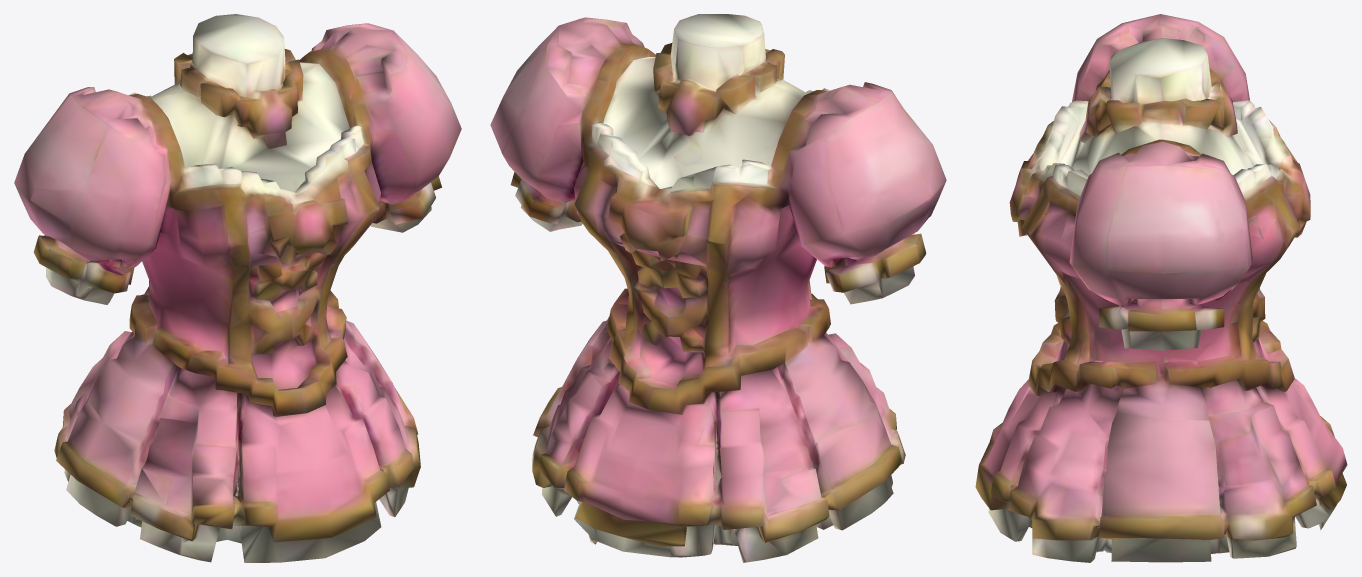
File: costume-princess-v2.glb
3 views of the same model, side by side, from view 1: azimuth 30°, elevation 25°; view 2: azimuth 150°, elevation 25°; view 3: azimuth 270°, elevation 25° (orthographic). The views are drawn at different scales.
Parts seen in each view (by area): view 1: material.001; view 2: material.001; view 3: material.001.
Boxes of the visible parts, bbox=[...] form: material.001: bbox=[14, 14, 461, 562]; material.001: bbox=[490, 14, 946, 562]; material.001: bbox=[975, 14, 1347, 562].
Size of the model in its own units: 0.9735 by 1.09 by 0.7593.
Materials: 1 (1 with a texture image).
